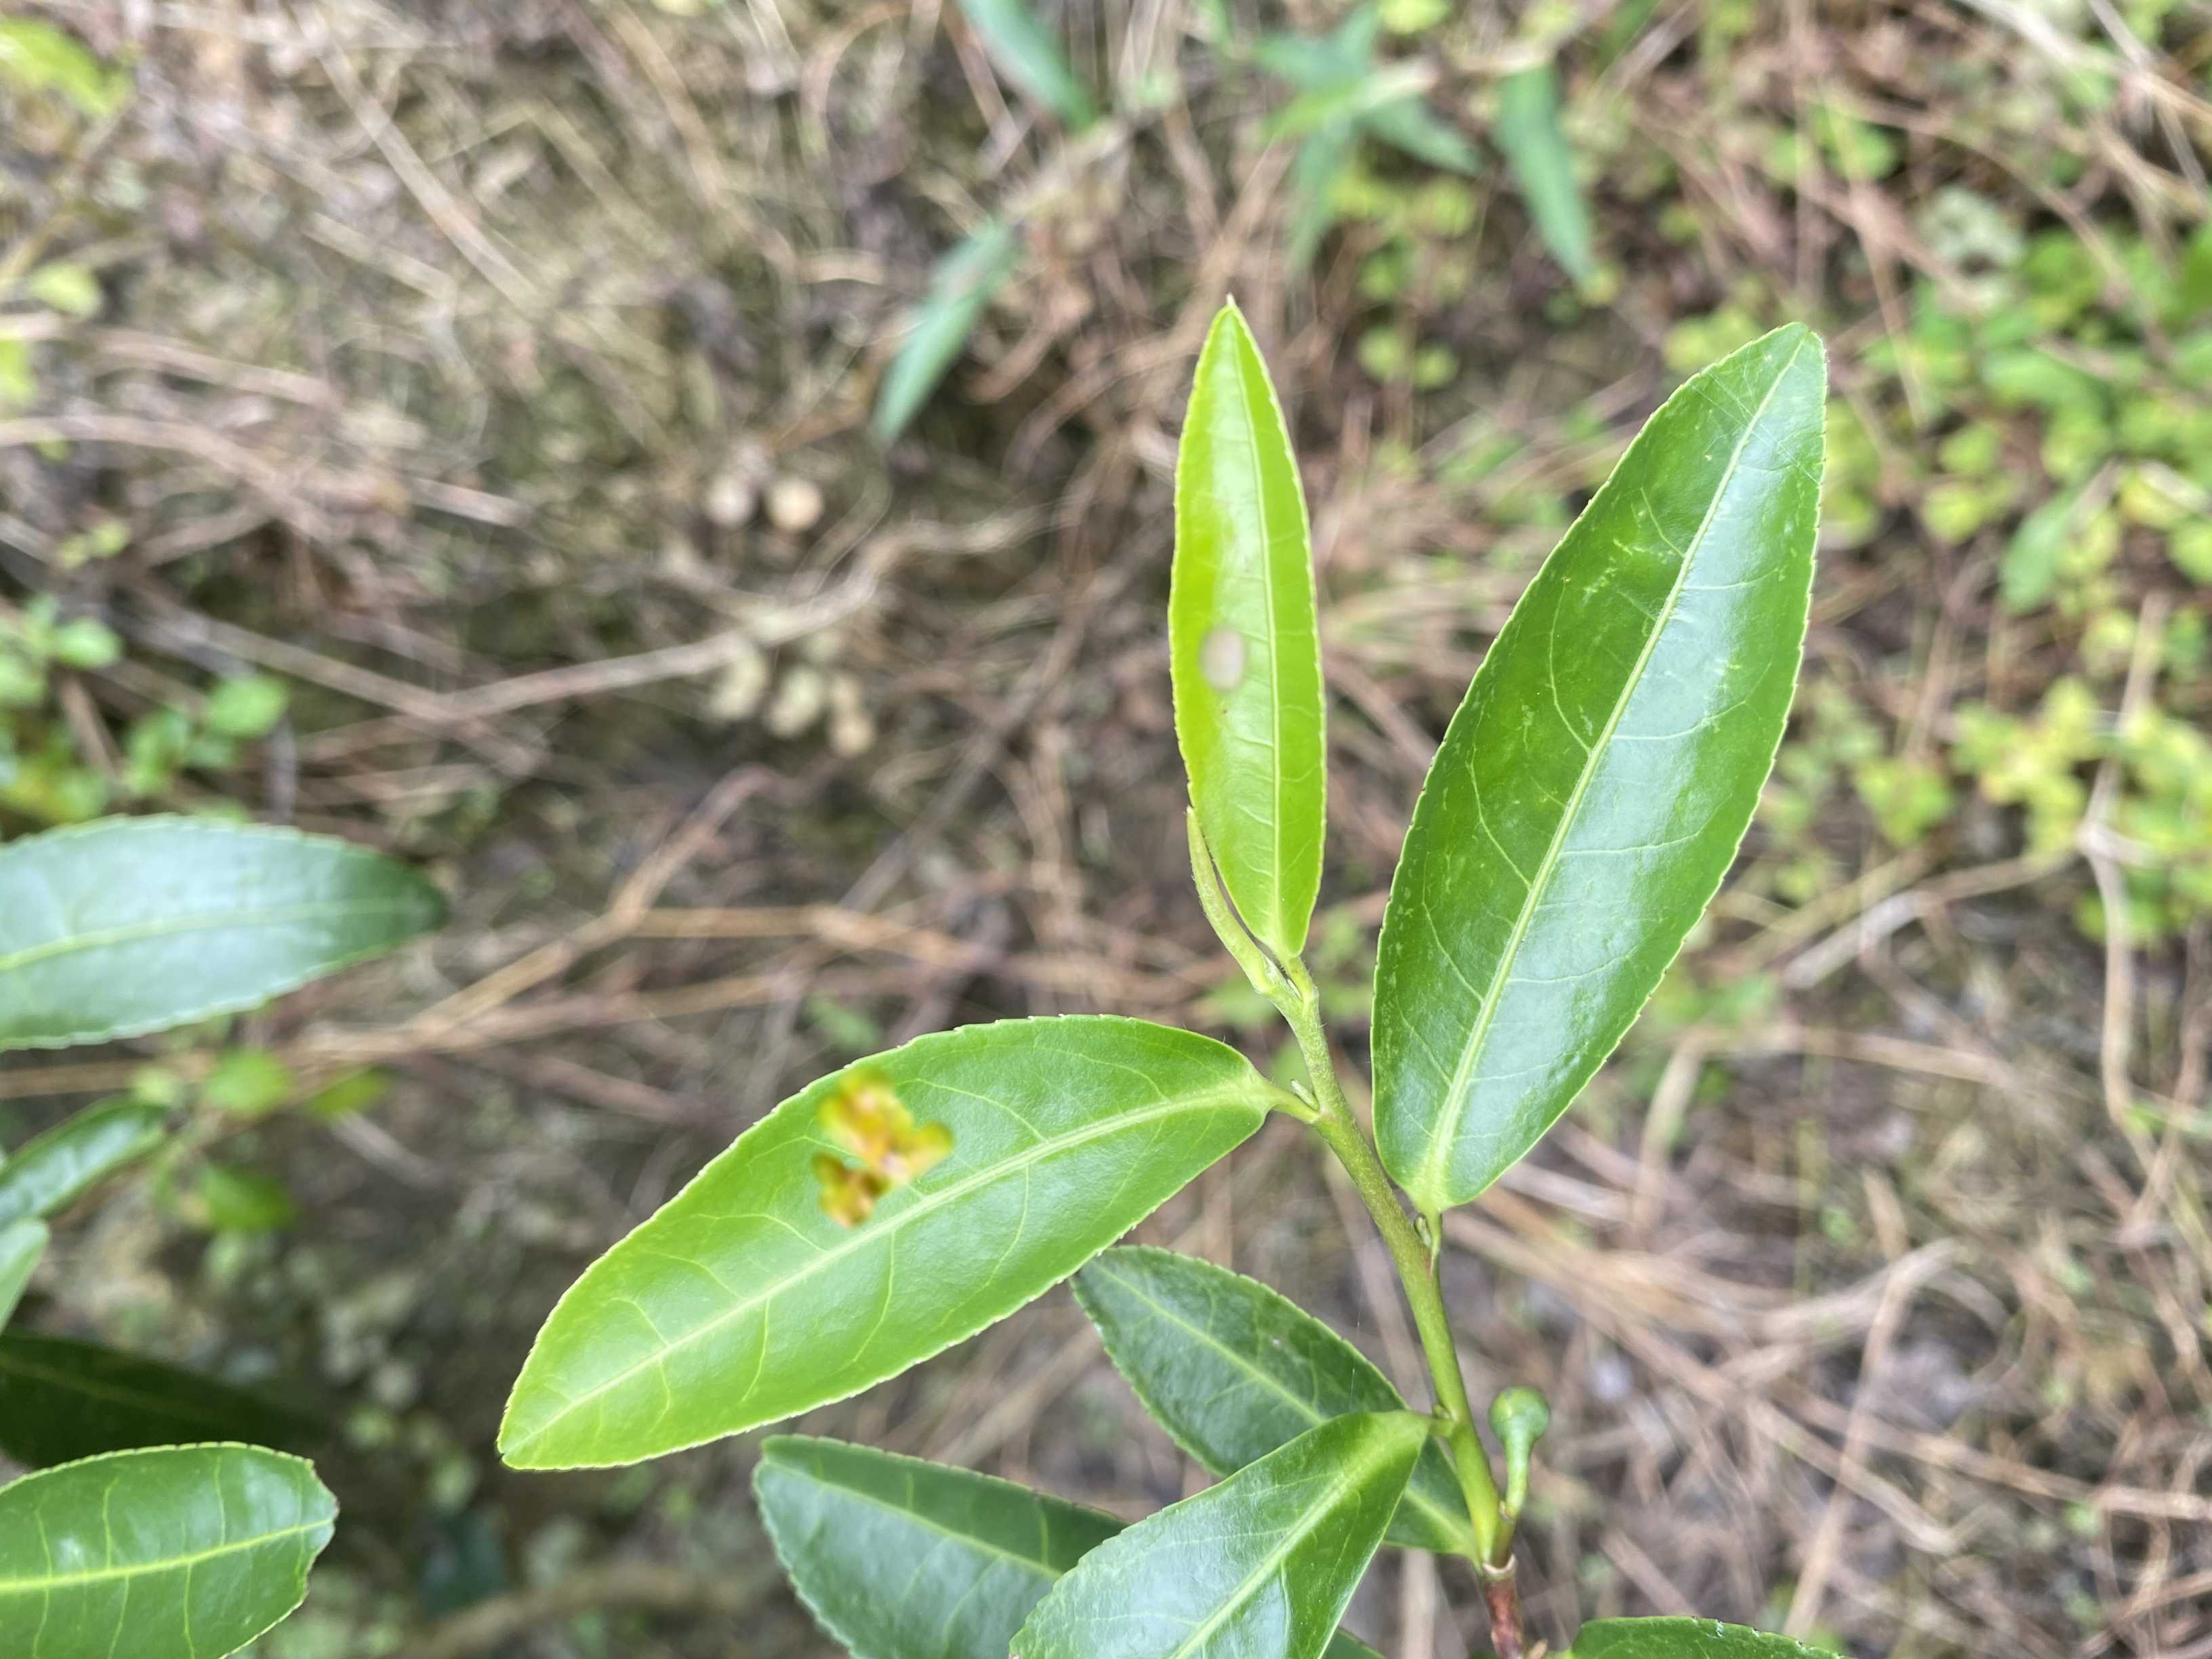chabing_low: (491, 1012, 1268, 1466), (1163, 305, 1332, 964)
chihuo_high: (2, 1445, 341, 1656)
healthy: (1369, 321, 1831, 1216), (1008, 1408, 1428, 1656)
